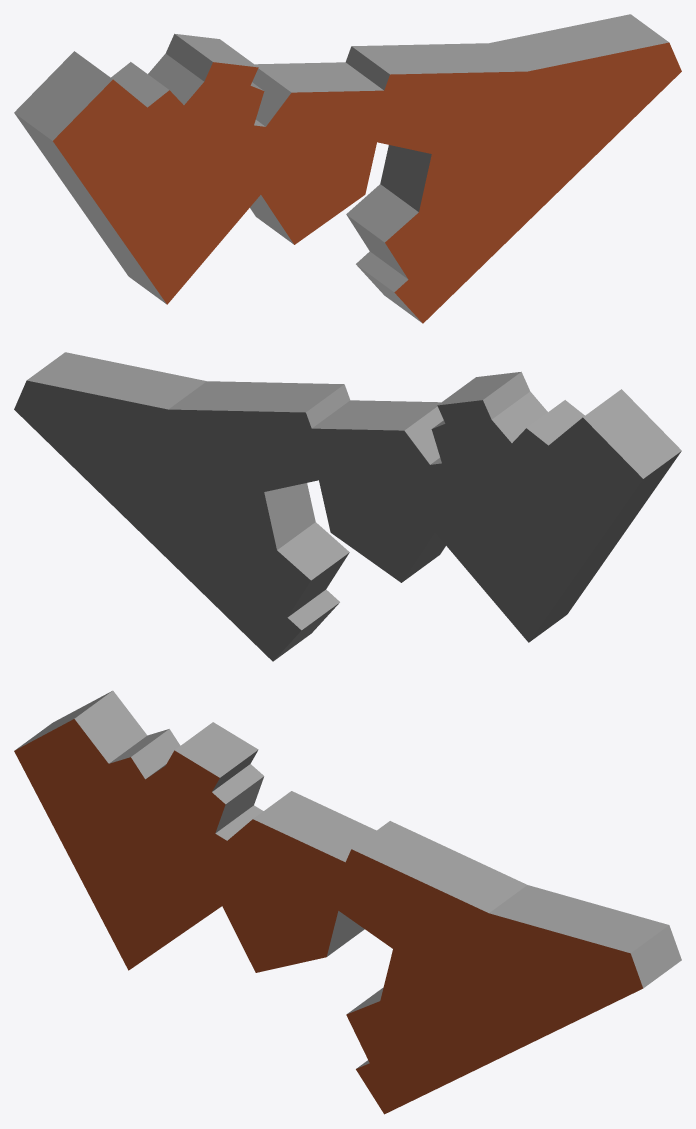
Rendered from construction_5319_assumed_A_Casa_h6m.obj.
3 views of the same model, one above another, from view 1: azimuth 30°, elevation 25°; view 2: azimuth 150°, elevation 25°; view 3: azimuth 330°, elevation 25° (orthographic).
Visible parts, largest first — view 1: construction_5319_assumed_A_Casa; view 2: construction_5319_assumed_A_Casa; view 3: construction_5319_assumed_A_Casa.
Part boxes in pixels (x1,y1,x2,y2): construction_5319_assumed_A_Casa: (14,14,681,323); construction_5319_assumed_A_Casa: (14,352,681,661); construction_5319_assumed_A_Casa: (14,690,681,1114).
Size of the model in its own units: 56.31 by 27.37 by 6.
